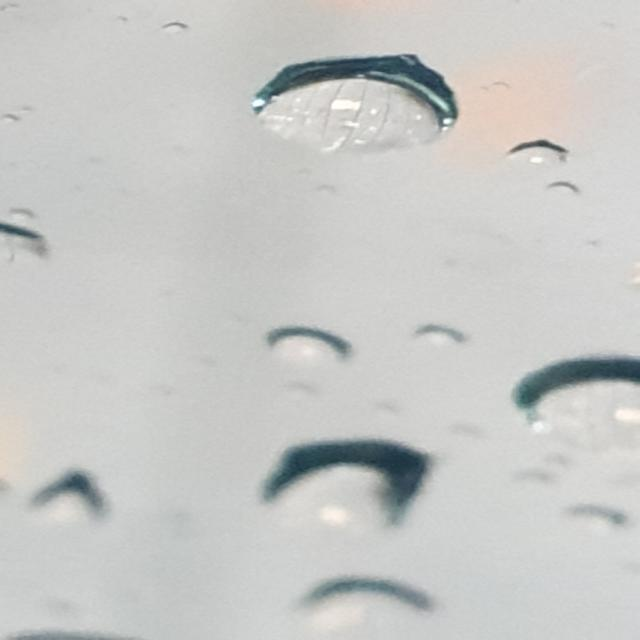raindrop: (233, 428, 458, 543), (250, 47, 466, 159), (518, 350, 640, 470), (298, 573, 454, 640), (236, 307, 382, 374), (0, 481, 125, 545), (0, 214, 75, 284), (547, 506, 640, 554), (502, 144, 572, 173), (414, 321, 474, 350), (152, 18, 192, 56), (556, 177, 600, 207)
